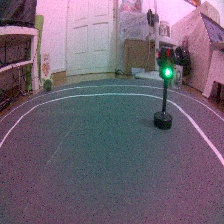green: (150, 43, 178, 131)
